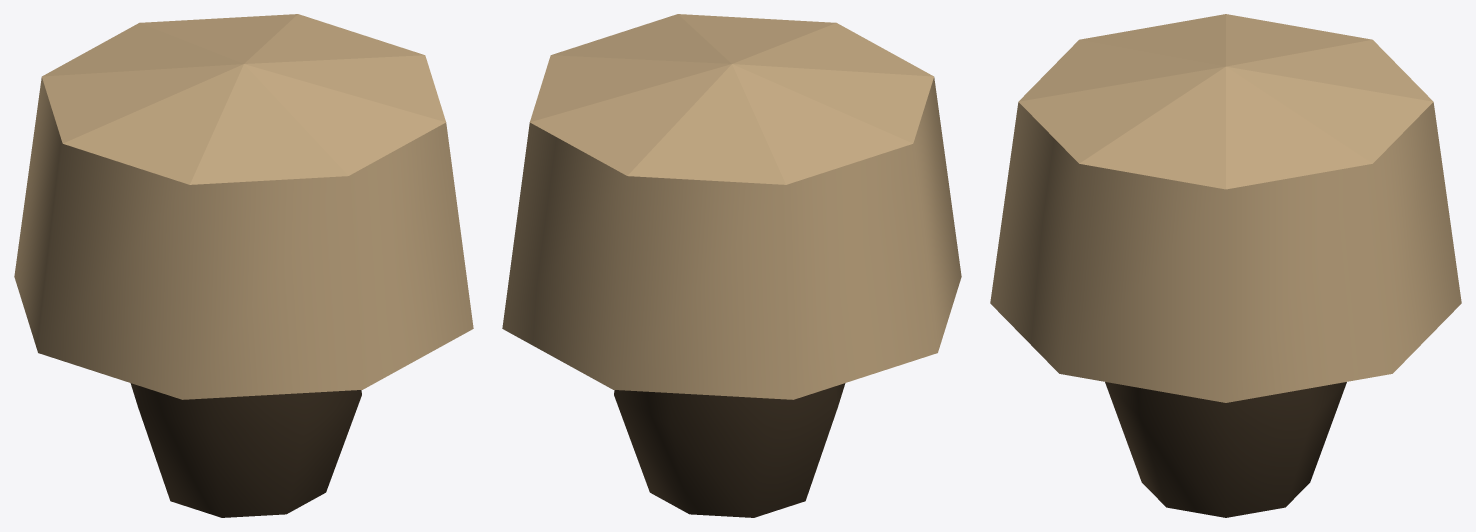
The model's file is HQ_Lamp.fbx.
3 renders of one model, left to right at view 1: azimuth 30°, elevation 25°; view 2: azimuth 150°, elevation 25°; view 3: azimuth 270°, elevation 25°, orthographic.
Parts seen in each view (by area): view 1: HQ_Lamp; view 2: HQ_Lamp; view 3: HQ_Lamp.
Part boxes in pixels (bbox=[...]): HQ_Lamp: bbox=[14, 14, 473, 517]; HQ_Lamp: bbox=[502, 14, 961, 517]; HQ_Lamp: bbox=[990, 14, 1461, 517].
Size of the model in its own units: 2.74 by 2.66 by 2.74.
